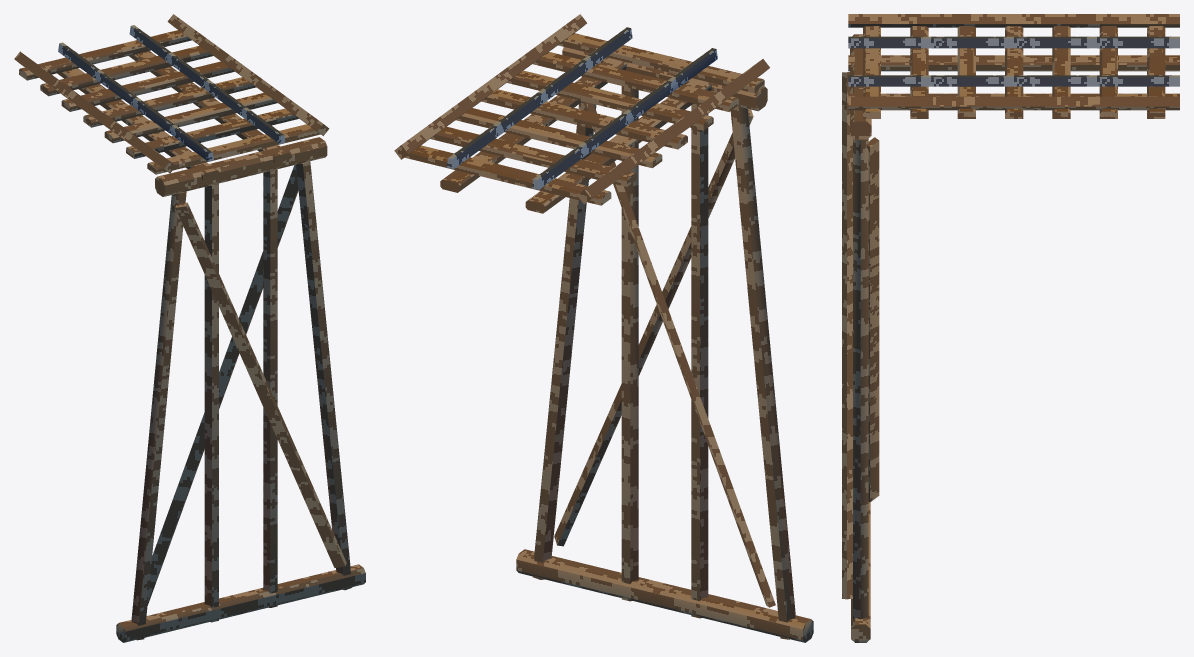
File: wrail.trestle__tall.glb
The picture shows the model from 3 angles, left to right: view 1: azimuth 30°, elevation 25°; view 2: azimuth 150°, elevation 25°; view 3: azimuth 270°, elevation 25°; orthographic projection. The views are drawn at different scales.
Parts seen in each view (by area): view 1: kit_bents, kit_ties, kit_braces, kit_sills, kit_rails, kit_guards, kit_caps, kit_stringers; view 2: kit_bents, kit_ties, kit_braces, kit_sills, kit_rails, kit_guards, kit_stringers, kit_caps; view 3: kit_braces, kit_guards, kit_rails, kit_ties, kit_bents, kit_stringers, kit_caps, kit_sills.
Part boxes in pixels (bbox=[...]): kit_bents: bbox=[131, 161, 352, 640]; kit_ties: bbox=[19, 30, 320, 174]; kit_braces: bbox=[147, 165, 346, 605]; kit_sills: bbox=[116, 564, 365, 642]; kit_rails: bbox=[58, 25, 285, 161]; kit_guards: bbox=[14, 14, 329, 173]; kit_caps: bbox=[155, 137, 327, 196]; kit_stringers: bbox=[57, 51, 290, 181]; kit_bents: bbox=[532, 76, 795, 639]; kit_ties: bbox=[405, 33, 764, 205]; kit_braces: bbox=[554, 101, 775, 607]; kit_sills: bbox=[516, 549, 813, 642]; kit_rails: bbox=[446, 27, 717, 189]; kit_guards: bbox=[394, 14, 769, 204]; kit_stringers: bbox=[440, 58, 712, 213]; kit_caps: bbox=[562, 47, 767, 111]; kit_braces: bbox=[842, 72, 879, 599]; kit_guards: bbox=[848, 14, 1179, 110]; kit_rails: bbox=[848, 36, 1179, 86]; kit_ties: bbox=[863, 26, 1165, 118]; kit_bents: bbox=[853, 139, 868, 619]; kit_stringers: bbox=[848, 55, 1179, 96]; kit_caps: bbox=[850, 34, 871, 139]; kit_sills: bbox=[851, 502, 870, 642].
Size of the model in its own units: 3.7 by 6.97 by 4.07.
Materials: 2 (2 with a texture image).
